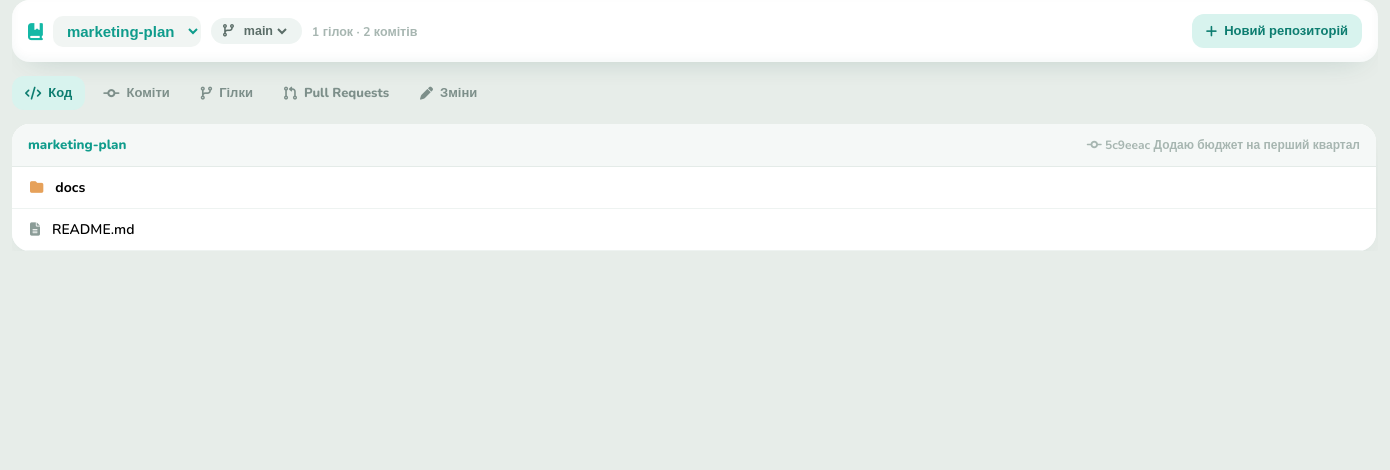
GitHubClone (UI) — синхронізація з рушієм › створення гілки з UI зʼявляється у рушії
Click the button "Гілки" at coordinates (227, 93), box [188,76,266,110]
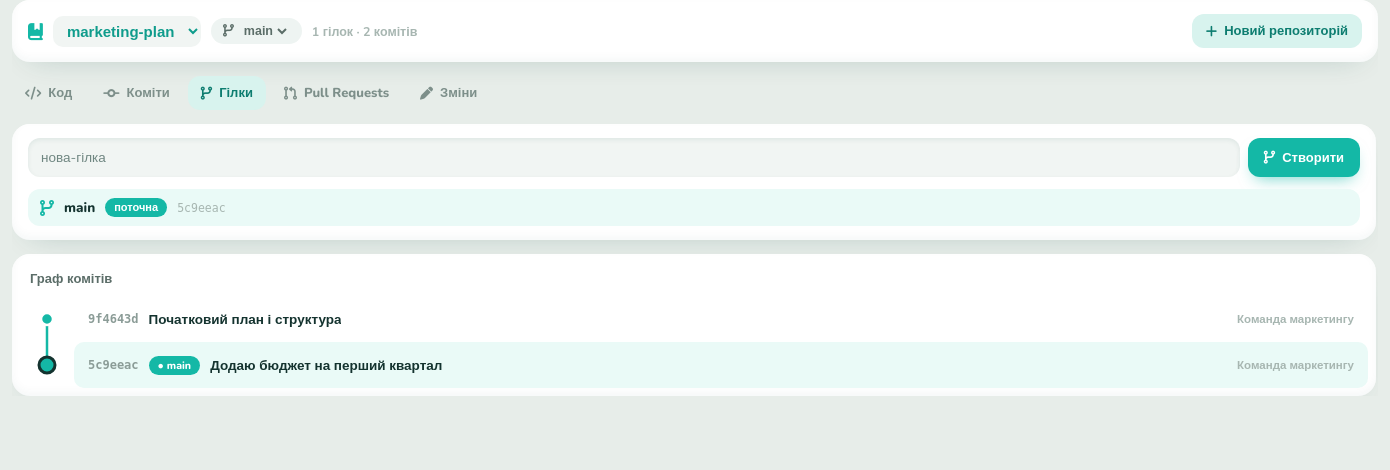
Type "dev" into the field with placeholder "нова-гілка" at coordinates (634, 158), box [28,138,1240,177]
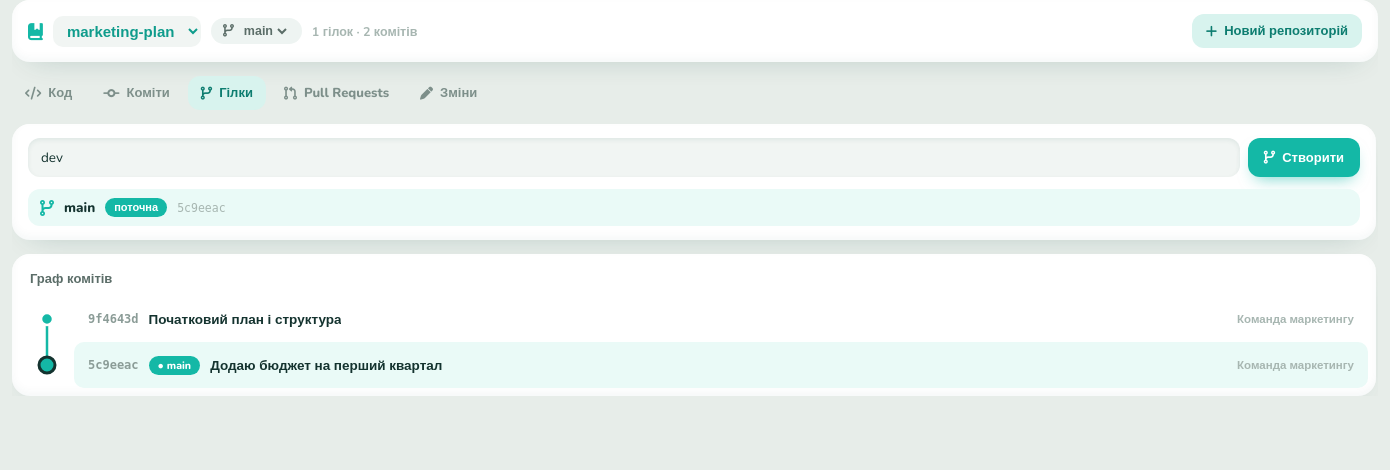
Click the button "Створити" at coordinates (1304, 158), box [1248,138,1360,177]
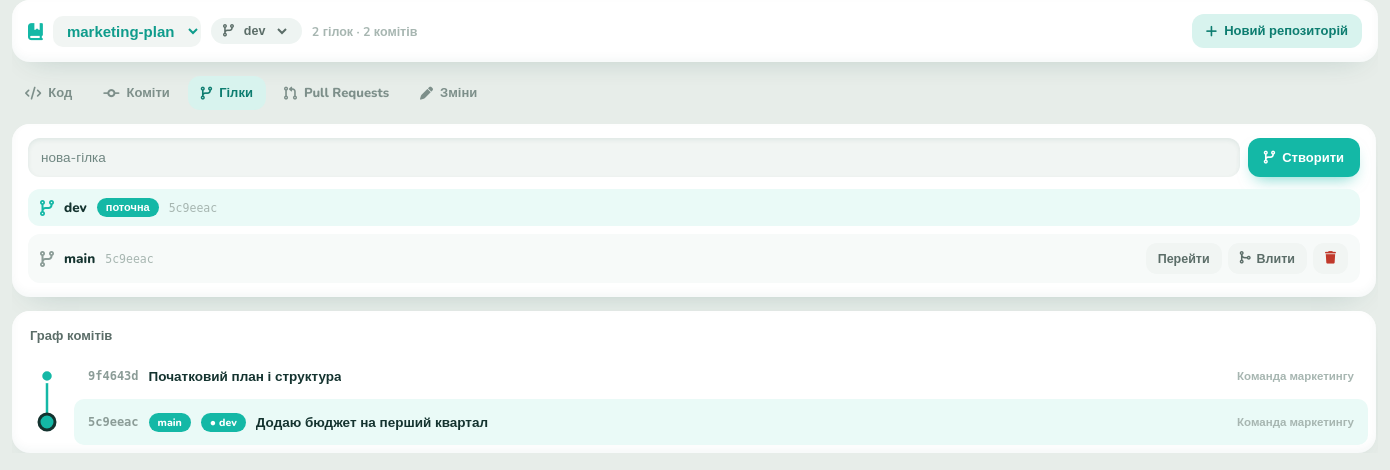
Now the text "dev" is shown, box [64,198,87,217]
